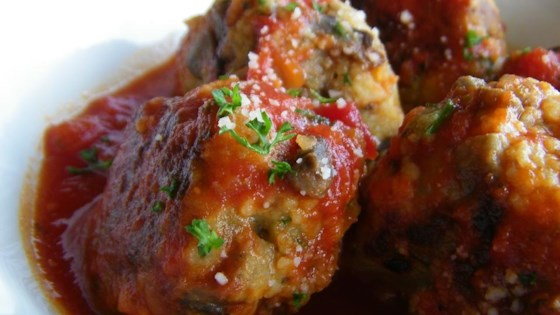meatballs: (137, 85, 345, 267), (400, 105, 557, 252)
